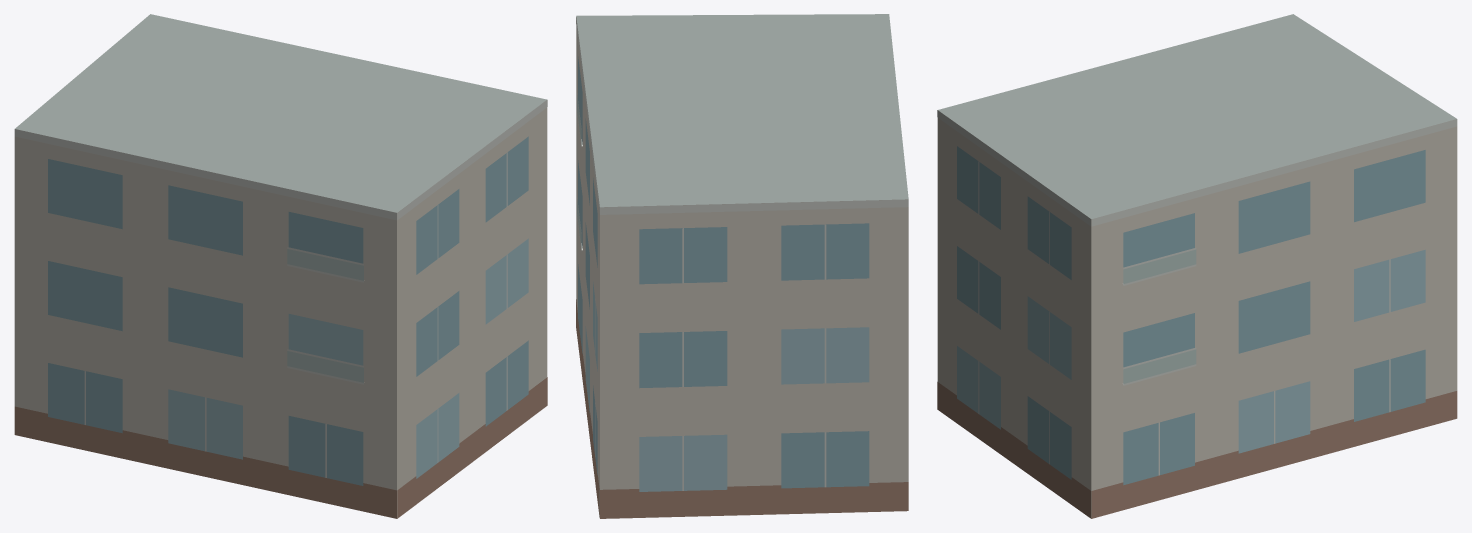
File: survey-upis-32919807.glb
3 renders of one model, left to right at view 1: azimuth 30°, elevation 25°; view 2: azimuth 150°, elevation 25°; view 3: azimuth 270°, elevation 25°, orthographic. The views are drawn at different scales.
Parts seen in each view (by area): view 1: survey-upis-32919807.tmp; view 2: survey-upis-32919807.tmp; view 3: survey-upis-32919807.tmp.
Part boxes in pixels (x1,y1,x2,y2): survey-upis-32919807.tmp: [14, 14, 547, 518]; survey-upis-32919807.tmp: [576, 14, 908, 518]; survey-upis-32919807.tmp: [937, 14, 1457, 518].
Bounding box in the file's own units: 14.41 × 9.8 × 15.42.
